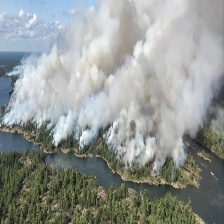smoke: (13, 2, 224, 165)
